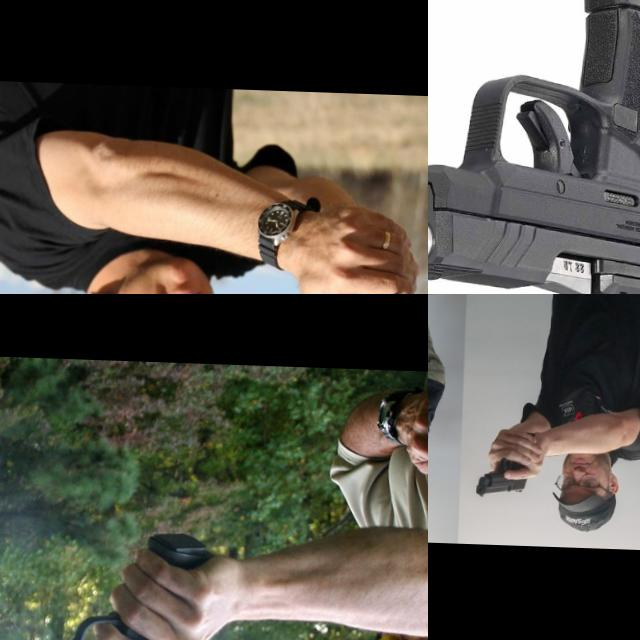handgun: (428, 0, 640, 294), (0, 602, 164, 640), (472, 455, 528, 500), (428, 472, 445, 491)
